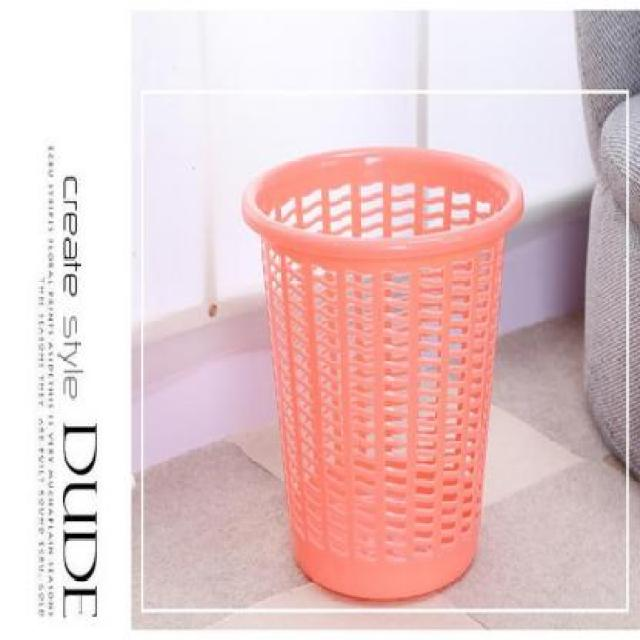dustbin: (237, 138, 529, 604)
